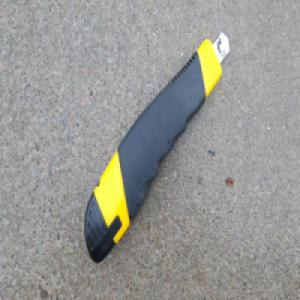Cutter: (83, 32, 230, 266)
